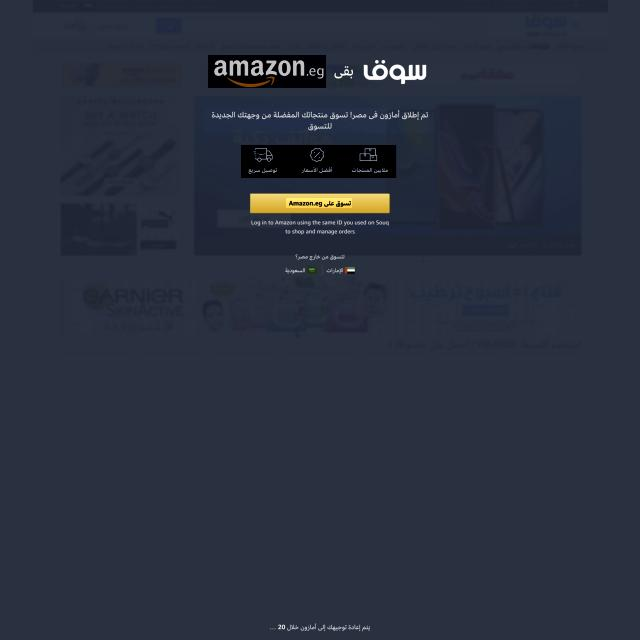CheckBox: (251, 193, 390, 213)
EditText-: (242, 145, 398, 178)
Input field: (205, 108, 434, 133)
data feed: (286, 198, 352, 208)
date picker: (208, 55, 326, 88)
